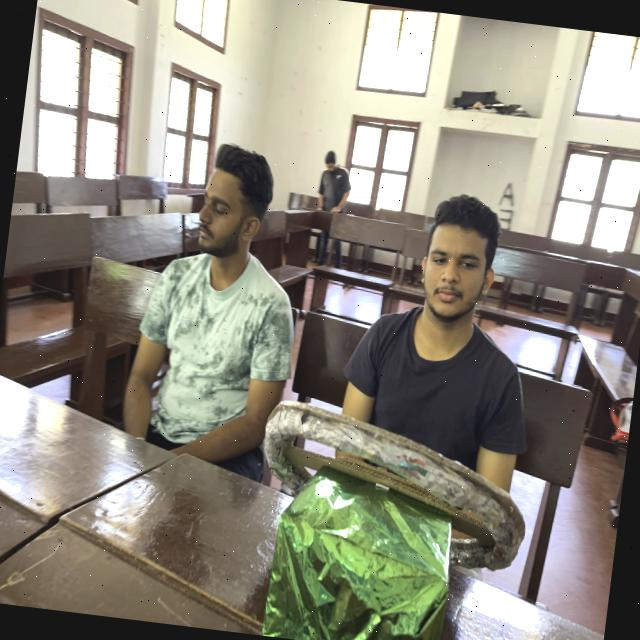Helmet: (314, 308, 544, 568), (114, 245, 306, 480)
